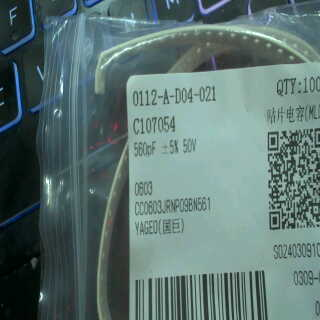560pF: (130, 136, 158, 164)
